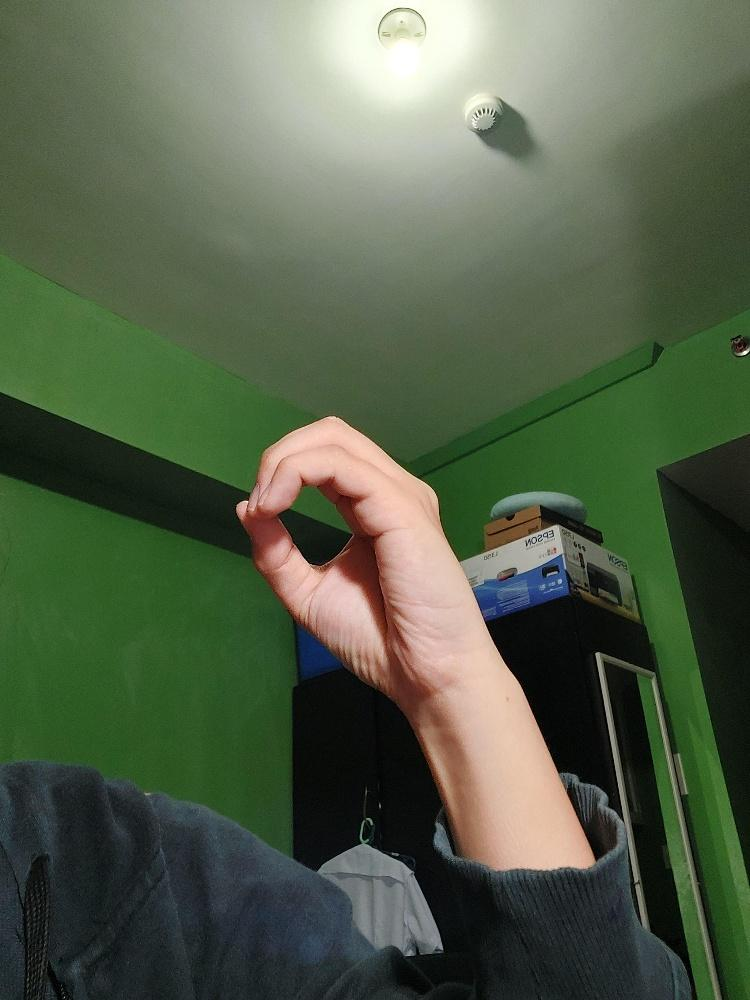o: (234, 414, 495, 703)
